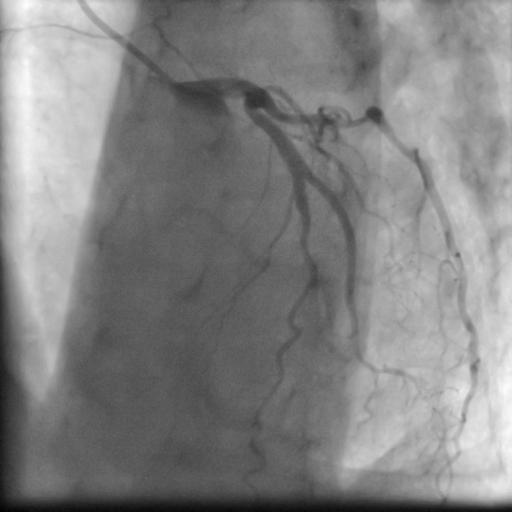Stenosis: (333, 106, 371, 136)
